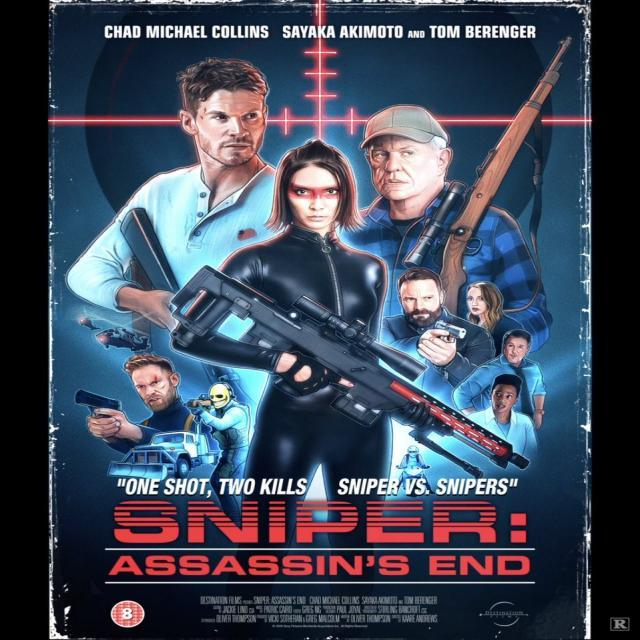rifle: (147, 247, 535, 491)
